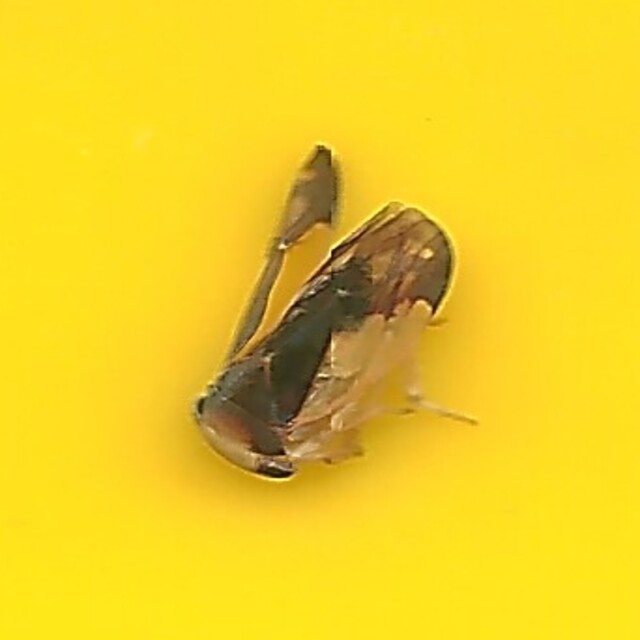Hemiptera: (187, 153, 453, 487)
